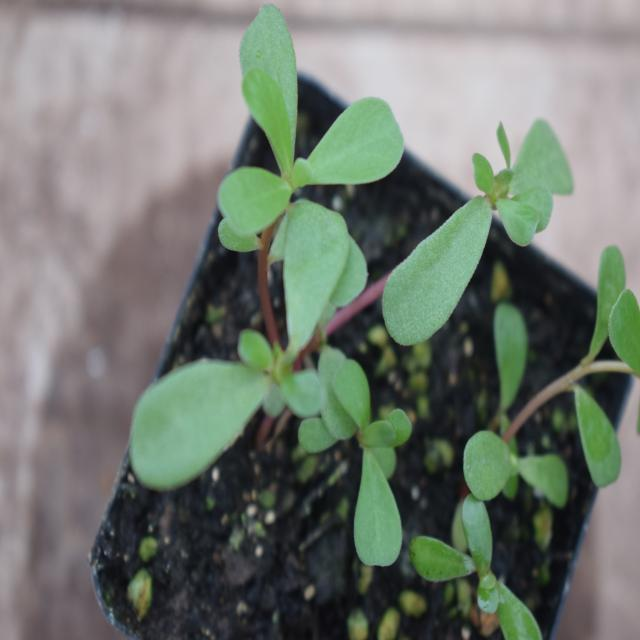purslane: (123, 10, 592, 554)
